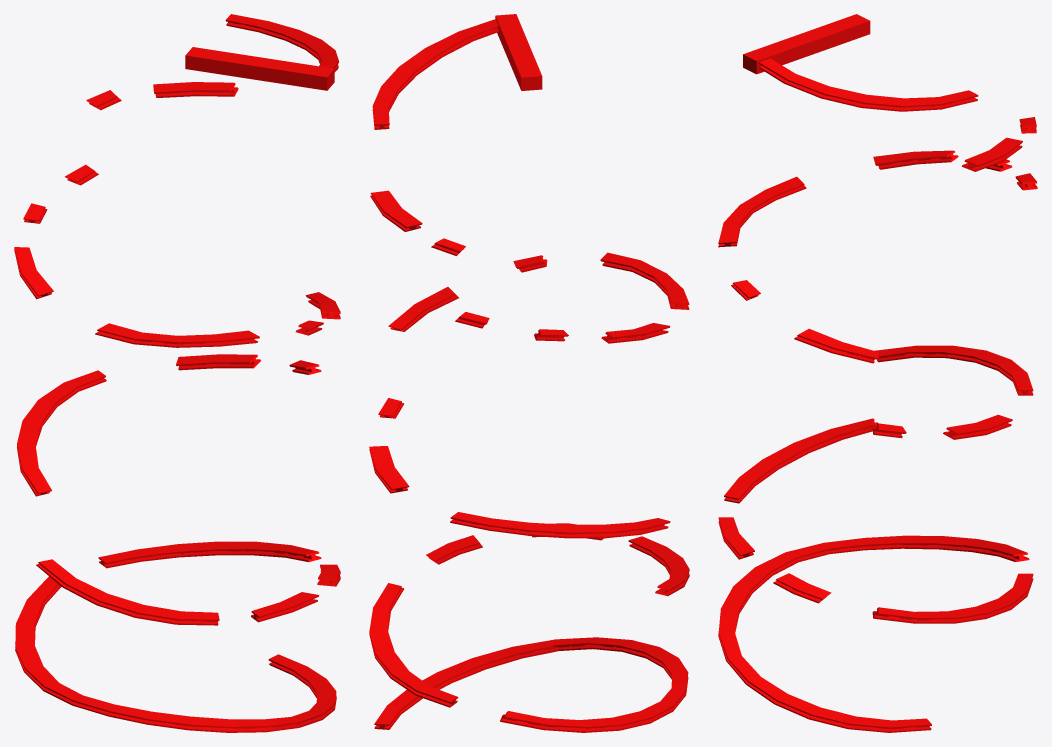
File: Level_1.fbx
3 views of the same model, side by side, from view 1: azimuth 30°, elevation 25°; view 2: azimuth 150°, elevation 25°; view 3: azimuth 270°, elevation 25° (orthographic).
Visible parts, largest first — view 1: Circle001, Box001; view 2: Circle001, Box001; view 3: Circle001, Box001.
Boxes of the visible parts, <box> form: Circle001: <box>14,14,340,732</box>; Box001: <box>185,47,334,90</box>; Circle001: <box>369,19,689,732</box>; Box001: <box>495,14,542,90</box>; Circle001: <box>718,58,1037,732</box>; Box001: <box>743,14,870,74</box>.
Size of the model in its own units: 329 by 739 by 328.
